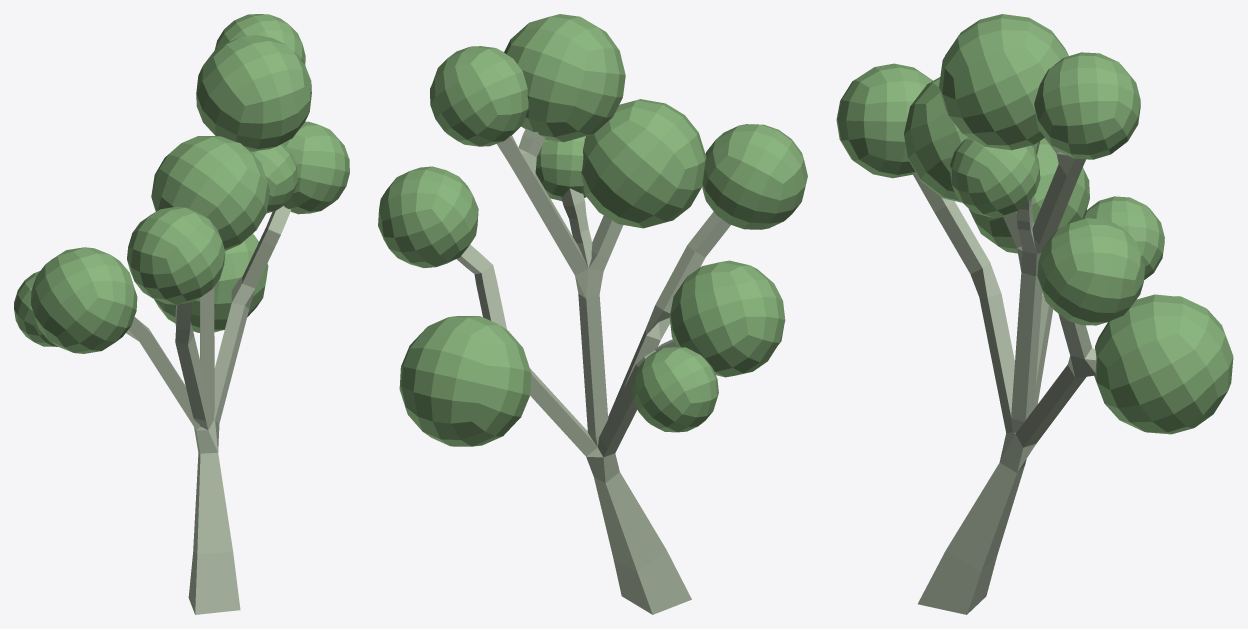
File: tree2.fbx
3 renders of one model, left to right at view 1: azimuth 30°, elevation 25°; view 2: azimuth 150°, elevation 25°; view 3: azimuth 270°, elevation 25°, orthographic. The views are drawn at different scales.
Visible parts, largest first — view 1: leaves2, trunk2; view 2: leaves2, trunk2; view 3: leaves2, trunk2.
Part boxes in pixels (x1,y1,x2,y2): leaves2: [14, 14, 349, 353]; trunk2: [126, 206, 290, 614]; leaves2: [378, 14, 807, 446]; trunk2: [457, 129, 730, 614]; leaves2: [836, 14, 1233, 434]; trunk2: [912, 138, 1096, 614].
Bounding box in the file's own units: 419 × 641 × 373.
